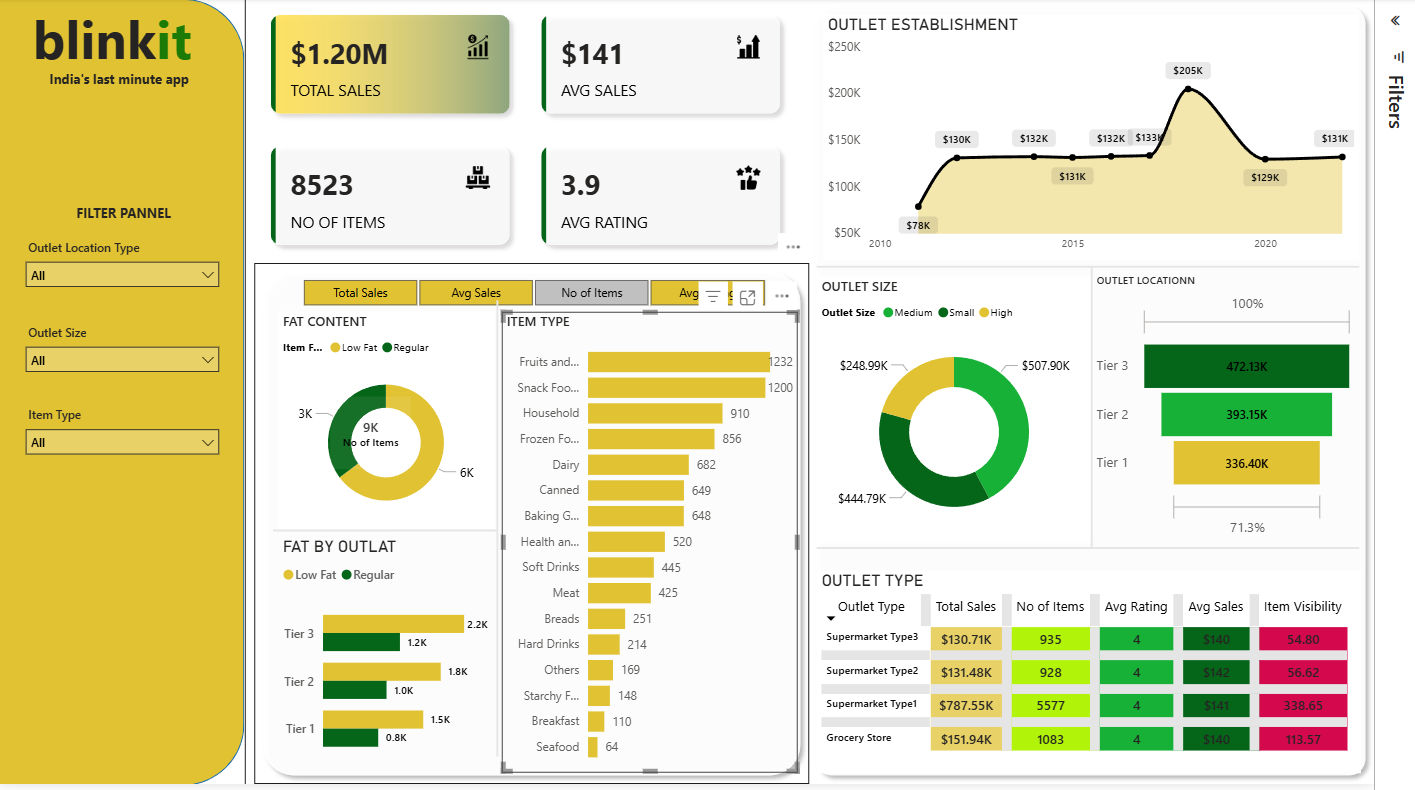

This screenshot's page, from the dashboard's own definition file:
{"tool":"powerbi","page":{"name":"Page 1","canvas":[1400,800],"ordinal":0},"visuals":[{"type":"shape","box":[0,0,251.8,802.5],"z":0},{"type":"textbox","box":[0,0,232.7,91.6],"z":1000},{"type":"textbox","box":[35.6,68.7,175.5,35.6],"z":2000},{"type":"cardVisual","fields":{"Data":["BlinkIT Grocery Data.Total Sales","BlinkIT Grocery Data.Avg Sales","BlinkIT Grocery Data.No of Items","BlinkIT Grocery Data.Avg Rating"]},"box":[260.7,0,553.2,269.6],"z":3000},{"type":"shape","box":[260.7,269.6,564.7,530.3],"z":4000},{"type":"donutChart","title":"FAT CONTENT","fields":{"Y":["BlinkIT Grocery Data.No of Items"],"Category":["BlinkIT Grocery Data.Item Fat Content"]},"box":[284.9,319.2,220,221.3],"z":5000},{"type":"slicer","fields":{"Values":["Metrics.Metrics"]},"box":[284.9,279.8,518.9,38.2],"z":6000},{"type":"cardVisual","fields":{"Data":["BlinkIT Grocery Data.No of Items"]},"box":[333.1,400.6,92.8,84.3],"z":7000},{"type":"clusteredBarChart","title":"FAT BY OUTLAT","fields":{"Y":["BlinkIT Grocery Data.No of Items"],"Category":["BlinkIT Grocery Data.Outlet Location Type"],"Series":["BlinkIT Grocery Data.Item Fat Content"]},"box":[284.9,548.1,218.8,240.4],"z":8000},{"type":"shape","box":[279.8,535.4,228.9,12.7],"z":9000},{"type":"shape","box":[497.3,307.8,21.6,464.2],"z":10000},{"type":"barChart","title":"ITEM TYPE","fields":{"Y":["BlinkIT Grocery Data.No of Items"],"Category":["BlinkIT Grocery Data.Item Type"]},"box":[512.5,319.2,301.4,469.3],"z":11000},{"type":"shape","box":[822.9,0,577.4,800],"z":12000},{"type":"lineChart","title":"OUTLET  ESTABLISHMENT","fields":{"Y":["BlinkIT Grocery Data.Total Sales"],"Category":["BlinkIT Grocery Data.Outlet Establishment Year"]},"box":[839.4,16.5,545.6,250.5],"z":13000},{"type":"shape","box":[833,267.1,552,12.7],"z":14000},{"type":"donutChart","title":"OUTLET SIZE","fields":{"Y":["BlinkIT Grocery Data.Total Sales"],"Category":["BlinkIT Grocery Data.Outlet Size"]},"box":[833,283.6,279.8,270.9],"z":15000},{"type":"shape","box":[1097.6,273.4,30.5,286.2],"z":16000},{"type":"funnel","title":"OUTLET LOCATIONN","fields":{"Y":["Sum(BlinkIT Grocery Data.Sales)"],"Category":["BlinkIT Grocery Data.Outlet Location Type"]},"box":[1112.8,279.8,272.2,274.7],"z":17000},{"type":"shape","box":[833,548.1,552,22.9],"z":18000},{"type":"pivotTable","title":"OUTLET TYPE","fields":{"Values":["BlinkIT Grocery Data.Total Sales","BlinkIT Grocery Data.No of Items","BlinkIT Grocery Data.Avg Rating","BlinkIT Grocery Data.Avg Sales","Sum(BlinkIT Grocery Data.Item Visibility)"],"Rows":["BlinkIT Grocery Data.Outlet Type"]},"box":[833,582.5,553.2,206],"z":19000},{"type":"slicer","fields":{"Values":["BlinkIT Grocery Data.Outlet Location Type"]},"box":[17.8,240.4,217.5,86.5],"z":20000},{"type":"slicer","fields":{"Values":["BlinkIT Grocery Data.Outlet Size"]},"box":[17.8,326.9,217.5,83.9],"z":21000},{"type":"slicer","fields":{"Values":["BlinkIT Grocery Data.Item Type"]},"box":[17.8,410.8,217.5,80.1],"z":22000},{"type":"textbox","box":[44.5,204.8,166.6,35.6],"z":23000}]}

Visuals, with their boxes on the page's 1400x800 design canvas (x1, y1, x2, y2). These are canvas units, not pixel positions in the 1415x790 screenshot, which may show the page scaled, cropped or inside an application window:
shape: 0,0,252,802
textbox: 0,0,233,92
textbox: 36,69,211,104
cardVisual - BlinkIT Grocery Data.Total Sales x BlinkIT Grocery Data.Avg Sales: 261,0,814,270
shape: 261,270,825,800
"FAT CONTENT" donutChart: 285,319,505,540
slicer - Metrics.Metrics: 285,280,804,318
cardVisual - BlinkIT Grocery Data.No of Items: 333,401,426,485
"FAT BY OUTLAT" clusteredBarChart: 285,548,504,788
shape: 280,535,509,548
shape: 497,308,519,772
"ITEM TYPE" barChart: 512,319,814,788
shape: 823,0,1400,800
"OUTLET  ESTABLISHMENT" lineChart: 839,16,1385,267
shape: 833,267,1385,280
"OUTLET SIZE" donutChart: 833,284,1113,554
shape: 1098,273,1128,560
"OUTLET LOCATIONN" funnel: 1113,280,1385,554
shape: 833,548,1385,571
"OUTLET TYPE" pivotTable: 833,582,1386,788
slicer - BlinkIT Grocery Data.Outlet Location Type: 18,240,235,327
slicer - BlinkIT Grocery Data.Outlet Size: 18,327,235,411
slicer - BlinkIT Grocery Data.Item Type: 18,411,235,491
textbox: 44,205,211,240
